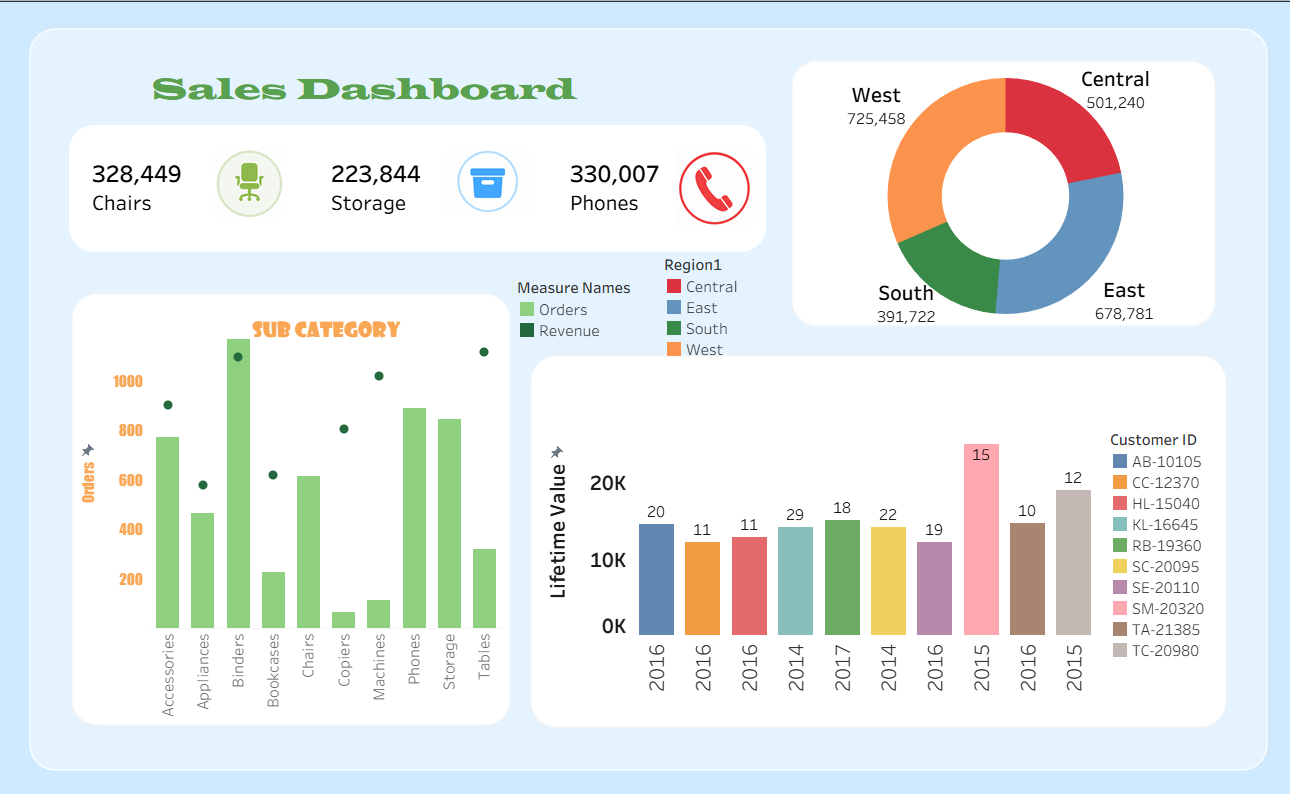

The page's visual inventory and layout, read from the dashboard file:
{"tool":"tableau","page":{"name":"Dashboard 1","canvas":[1000,1000],"units":"permille","ordinal":0},"visuals":[{"type":"worksheet","title":"LAYOUT","mark":"Automatic","box":[0,0,1000,1000]},{"type":"text","box":[117.7,63.8,505.4,97.5]},{"type":"worksheet","title":"REGIONAL PERFORMANCE","mark":"Pie","cols":["Calculation_0972535153410055","Calculation_0972535153410055"],"box":[610.8,80,333.1,332.5]},{"type":"worksheet","title":"TOP PRODUCTS BY CATEGORY","mark":"Automatic","cols":["Category (Top Products By Category)","Sub_Category (Top Products By Category)"],"box":[71.5,157.5,550.8,155]},{"type":"image","param":"C:/Users/keert/OneDrive/Documents/My Tableau Repository/Shapes/My Shapes/chair.j","box":[167.7,186.2,67.7,90]},{"type":"image","param":"C:/Users/keert/OneDrive/Documents/My Tableau Repository/Shapes/My Shapes/store.j","box":[343.9,186.2,70,98.8]},{"type":"image","param":"C:/Users/keert/OneDrive/Documents/My Tableau Repository/Shapes/My Shapes/phone.j","box":[522.3,186.2,61.5,102.5]},{"type":"legend","title":"REGIONAL PERFORMANCE","param":"[federated.12yzq2c1xmy1hz18oxrl21gebzmr].[none:Region:nk]","box":[514.6,318.8,107.7,132.5]},{"type":"legend","title":"ORDERS AND REVENUE BY SUB-CATEGORY","param":"[federated.12yzq2c1xmy1hz18oxrl21gebzmr].[:Measure Names]","box":[401.5,347.5,107.7,80]},{"type":"worksheet","title":"ORDERS AND REVENUE BY SUB-CATEGORY","mark":"Bar","rows":["Orders","Revenue"],"cols":["Sub_Category (Top 10 Categories)"],"box":[59.2,400,330.8,511.2]},{"type":"worksheet","title":"CUSTOMER LIFETIME VALUE BY LAST ORDER YEAR","mark":"Bar","rows":["Lifetime_Value"],"cols":["Customer_ID","Last_Order"],"box":[416.2,533.8,431.5,341.2]},{"type":"legend","title":"CUSTOMER LIFETIME VALUE BY LAST ORDER YEAR","param":"[federated.12yzq2c1xmy1hz18oxrl21gebzmr].[none:Customer_ID:nk]","box":[857.7,537.5,107.7,290]}]}

Visuals, with their boxes on the dashboard's canvas, which has no fixed pixel size, in thousandths of its width and height (x1, y1, x2, y2). These are canvas units, not pixel positions in the 1290x794 screenshot, which may show the page scaled, cropped or inside an application window:
"LAYOUT" worksheet: (left=0, top=0, right=1000, bottom=1000)
text: (left=118, top=64, right=623, bottom=161)
"REGIONAL PERFORMANCE" worksheet (Pie marks): (left=611, top=80, right=944, bottom=412)
"TOP PRODUCTS BY CATEGORY" worksheet: (left=72, top=158, right=622, bottom=312)
image: (left=168, top=186, right=235, bottom=276)
image: (left=344, top=186, right=414, bottom=285)
image: (left=522, top=186, right=584, bottom=289)
"REGIONAL PERFORMANCE" legend: (left=515, top=319, right=622, bottom=451)
"ORDERS AND REVENUE BY SUB-CATEGORY" legend: (left=402, top=348, right=509, bottom=428)
"ORDERS AND REVENUE BY SUB-CATEGORY" worksheet (Bar marks): (left=59, top=400, right=390, bottom=911)
"CUSTOMER LIFETIME VALUE BY LAST ORDER YEAR" worksheet (Bar marks): (left=416, top=534, right=848, bottom=875)
"CUSTOMER LIFETIME VALUE BY LAST ORDER YEAR" legend: (left=858, top=538, right=965, bottom=828)
